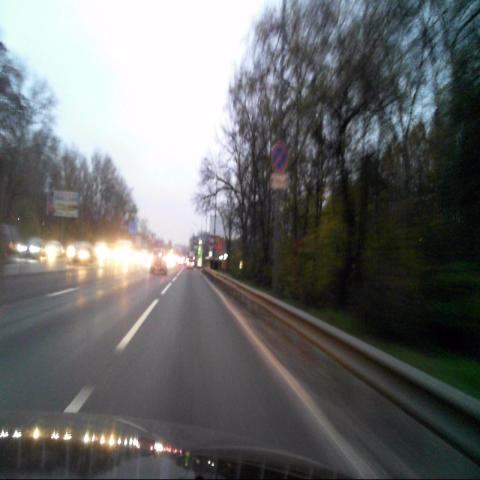8_2_1: (270, 174, 290, 188)
